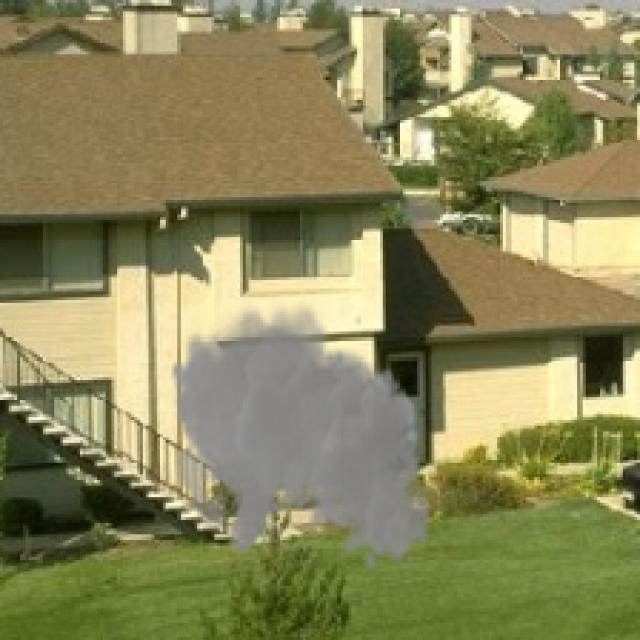smoke: (168, 294, 432, 572)
